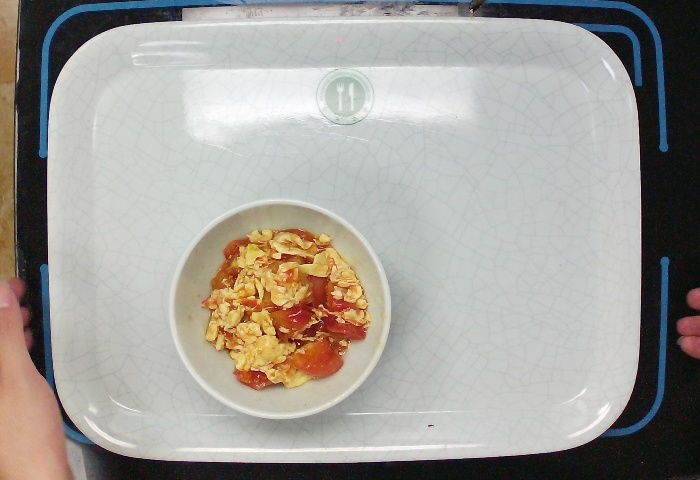JYsf-Fan_Wan: (164, 195, 395, 422)
